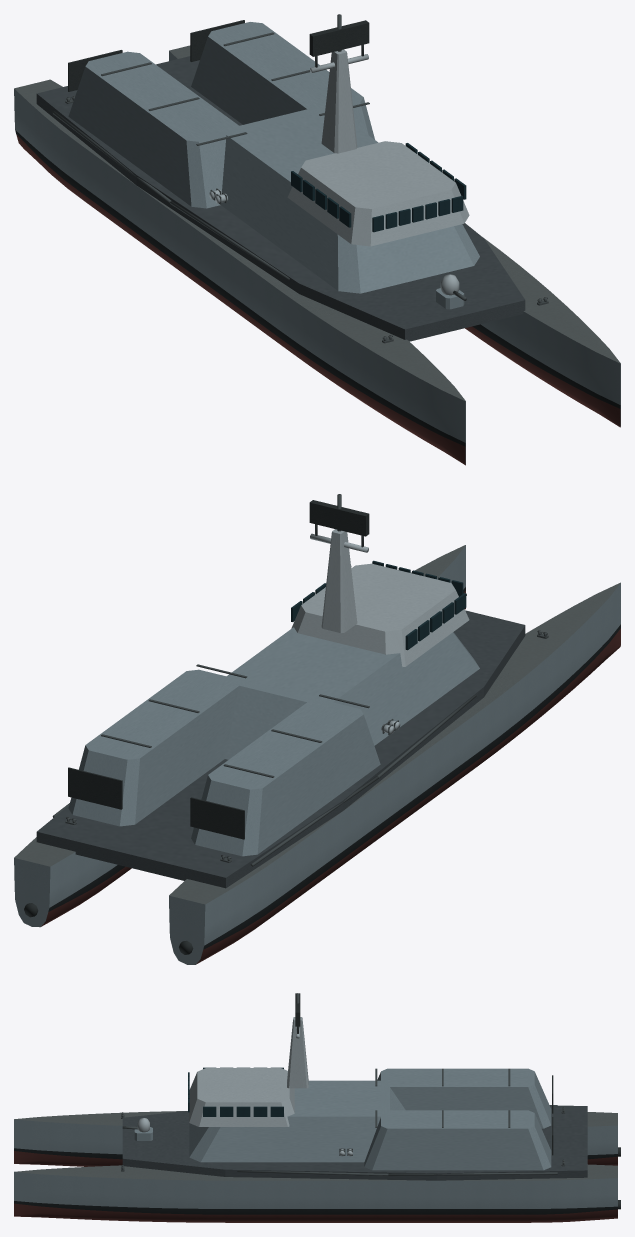
The model's file is wings_type022_houbei.glb.
The picture shows the model from 3 angles, top to bottom: view 1: azimuth 30°, elevation 25°; view 2: azimuth 150°, elevation 25°; view 3: azimuth 270°, elevation 25°; orthographic projection. The views are drawn at different scales.
Visible parts, largest first — view 1: static_hull_deck_superstructure; view 2: static_hull_deck_superstructure; view 3: static_hull_deck_superstructure.
Boxes of the visible parts, x1,y1,x2,y2 form: static_hull_deck_superstructure: (14,14,620,465); static_hull_deck_superstructure: (14,494,620,964); static_hull_deck_superstructure: (14,993,620,1222).
Bounding box in the file's own units: 11.87 × 15.57 × 42.81.
1 material, 1 textured.
